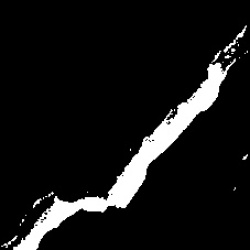crack: (6, 25, 245, 248)
